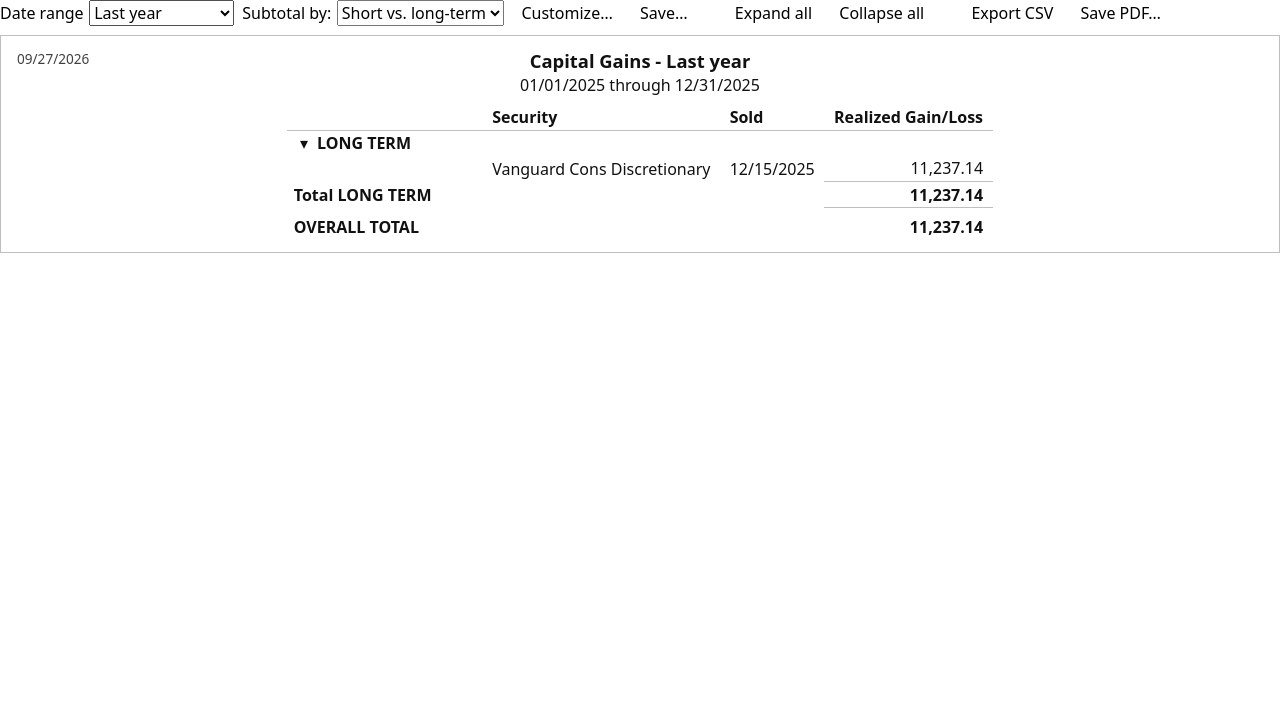
it: Report window › saves under a name
Click the button "Save…" at (664, 13), box top-left (630, 0), bottom-right (697, 27)
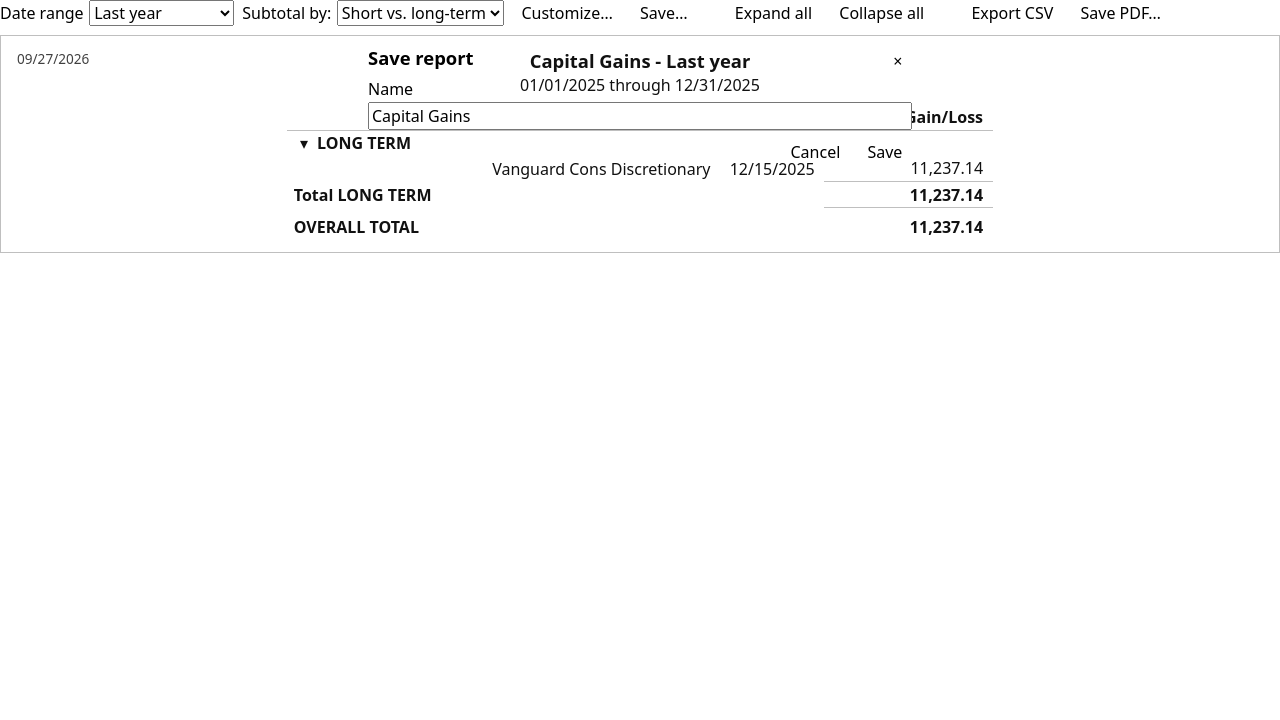
Replace the text in the field labelled "Name" with "My gains" at (640, 116), box top-left (368, 102), bottom-right (912, 130)
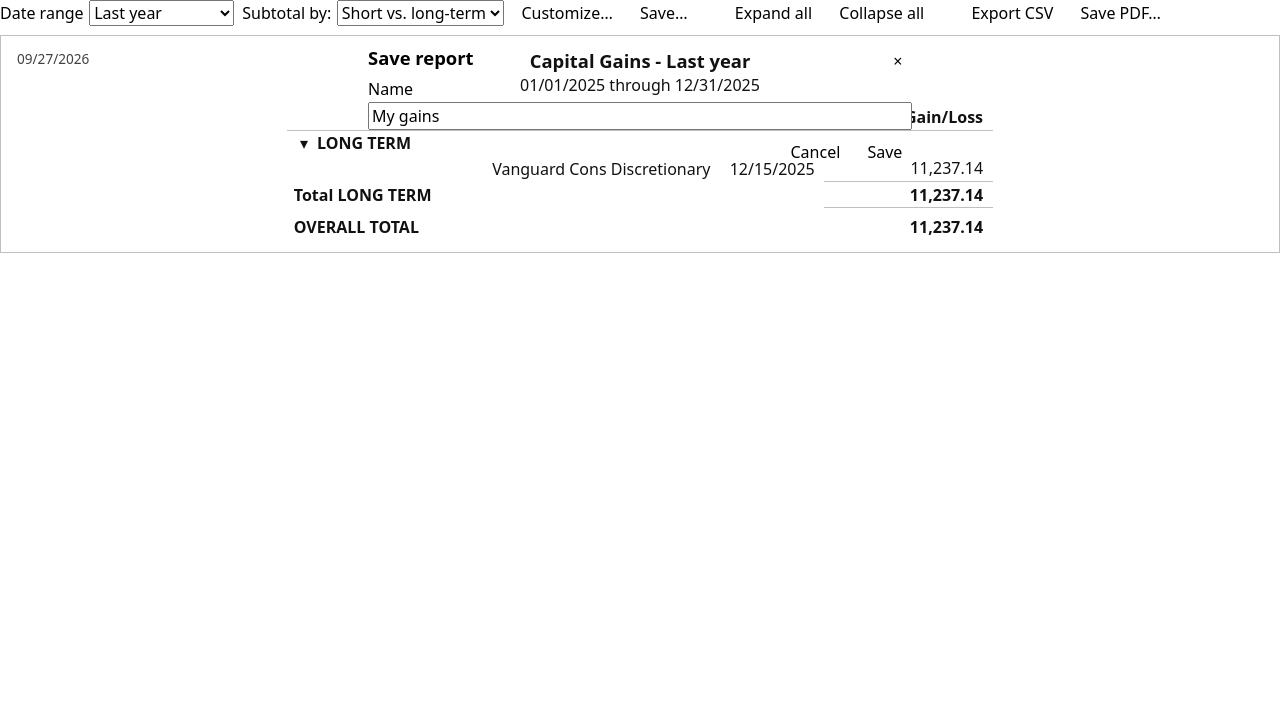
Click the button "Save" at (885, 152), box top-left (858, 138), bottom-right (912, 165)
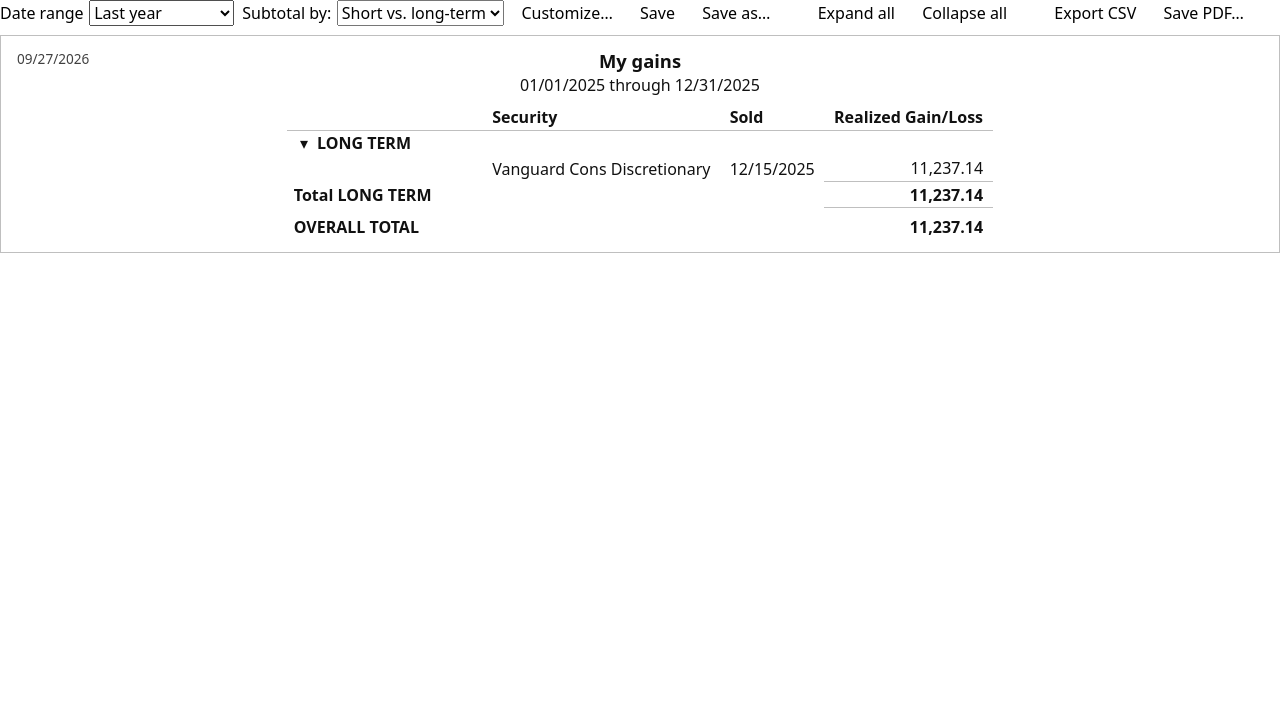
Now the heading "My gains" is shown, box top-left (599, 48), bottom-right (681, 73)
